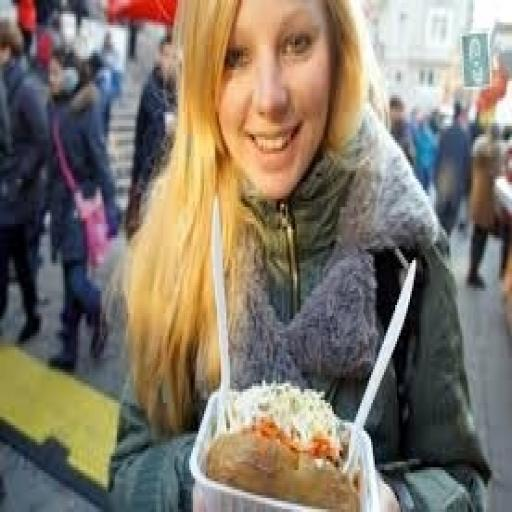eating: (106, 0, 492, 509)
